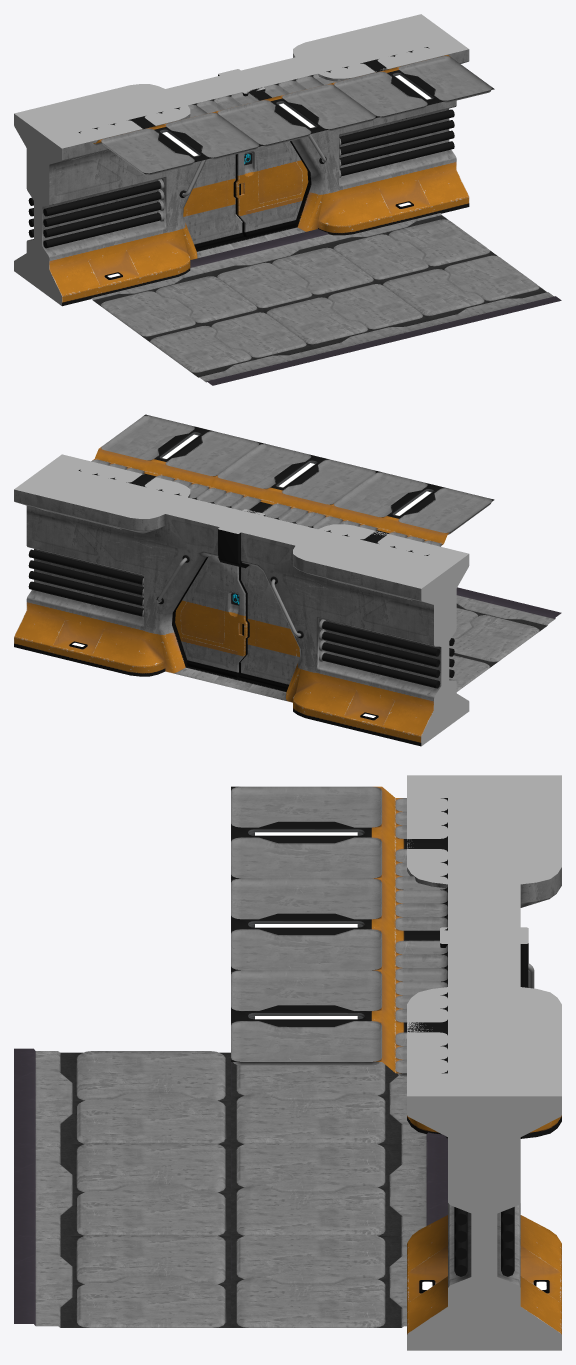
Rendered from ScifiEnv.fbx.
3 renders of one model, top to bottom at view 1: azimuth 30°, elevation 25°; view 2: azimuth 150°, elevation 25°; view 3: azimuth 270°, elevation 25°, orthographic. The views are drawn at different scales.
Parts seen in each view (by area): view 1: Mesh_1, Mesh_0.001, Mesh_0, Mesh_3; view 2: Mesh_1, Mesh_3, Mesh_0.001, Mesh_0; view 3: Mesh_1, Mesh_0.001, Mesh_3, Mesh_0, Mesh_2.
Boxes of the visible parts, left/top/right/bottom form: Mesh_1: left=14, top=14, right=469, bottom=306; Mesh_0.001: left=146, top=254, right=561, bottom=385; Mesh_0: left=91, top=213, right=494, bottom=338; Mesh_3: left=78, top=47, right=494, bottom=175; Mesh_1: left=14, top=454, right=469, bottom=746; Mesh_3: left=78, top=414, right=494, bottom=555; Mesh_0.001: left=449, top=587, right=561, bottom=664; Mesh_0: left=449, top=654, right=494, bottom=691; Mesh_1: left=407, top=775, right=561, bottom=1350; Mesh_0.001: left=14, top=1048, right=230, bottom=1327; Mesh_3: left=231, top=786, right=447, bottom=1076; Mesh_0: left=231, top=1062, right=447, bottom=1327; Mesh_2: left=454, top=1213, right=549, bottom=1293.
Size of the model in its own units: 787 by 304 by 568.
